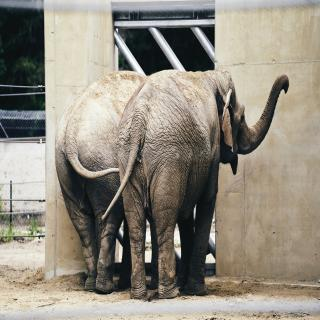Elephant: (102, 65, 294, 303)
